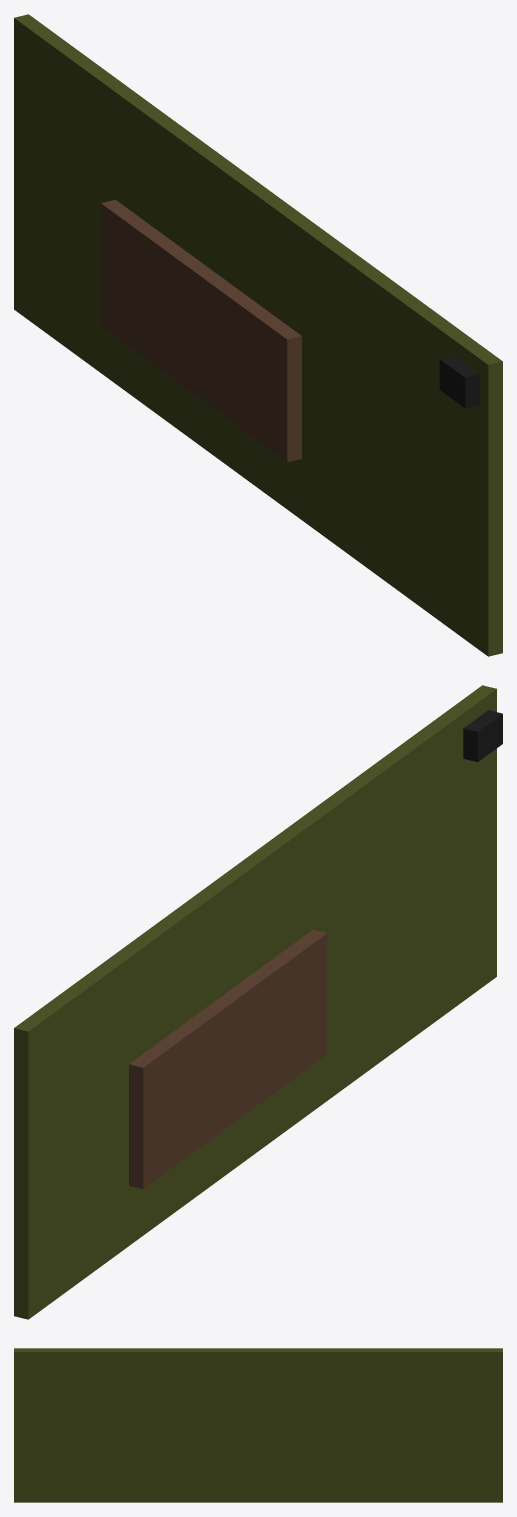
The model's file is technical_tailgate.glb.
3 views of the same model, one above another, from view 1: azimuth 30°, elevation 25°; view 2: azimuth 150°, elevation 25°; view 3: azimuth 270°, elevation 25° (orthographic). The views are drawn at different scales.
Parts seen in each view (by area): view 1: body:compound; view 2: body:compound; view 3: body:compound.
Boxes of the visible parts, x1,y1,x2,y2 form: body:compound: [14, 14, 502, 656]; body:compound: [14, 685, 502, 1319]; body:compound: [14, 1348, 502, 1502].
Bounding box in the file's own units: 0.0625 × 0.5938 × 1.75.
